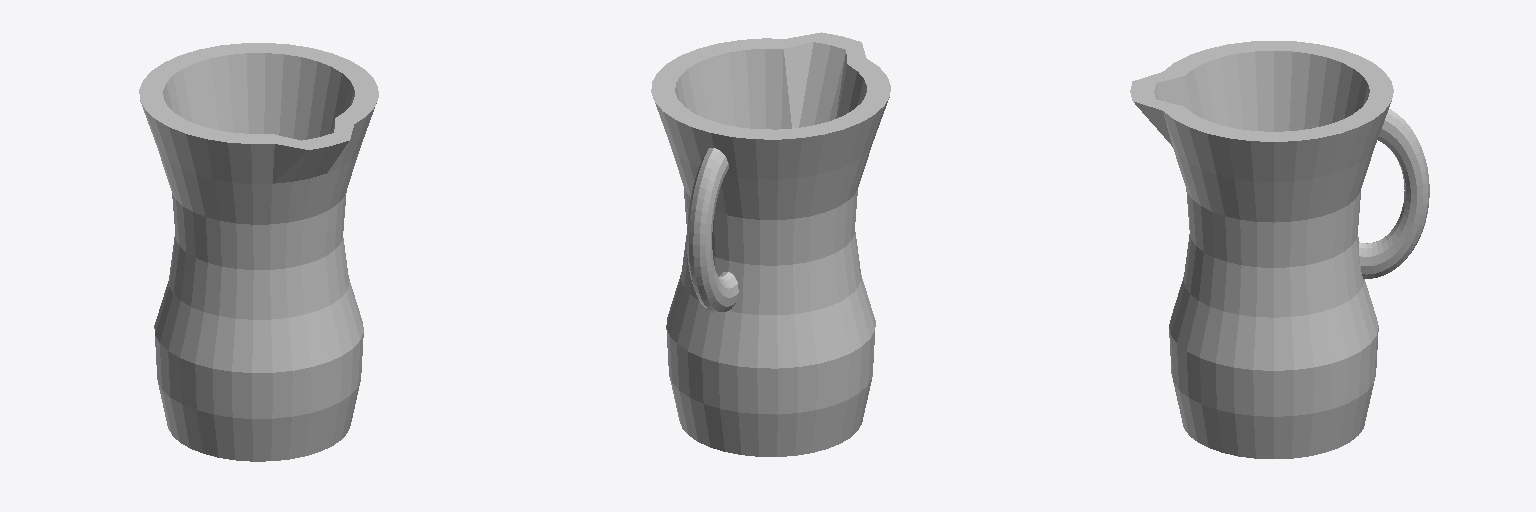
File: DecoritiveMedievalPitcher.obj
3 renders of one model, left to right at view 1: azimuth 30°, elevation 25°; view 2: azimuth 150°, elevation 25°; view 3: azimuth 270°, elevation 25°, orthographic.
Parts seen in each view (by area): view 1: DecoPitcher_DecoPitcher; view 2: DecoPitcher_DecoPitcher; view 3: DecoPitcher_DecoPitcher.
Boxes of the visible parts, <box> form: DecoPitcher_DecoPitcher: <box>139,43,378,461</box>; DecoPitcher_DecoPitcher: <box>651,32,890,456</box>; DecoPitcher_DecoPitcher: <box>1130,41,1429,458</box>.
Bounding box in the file's own units: 33.05 × 50 × 41.22.